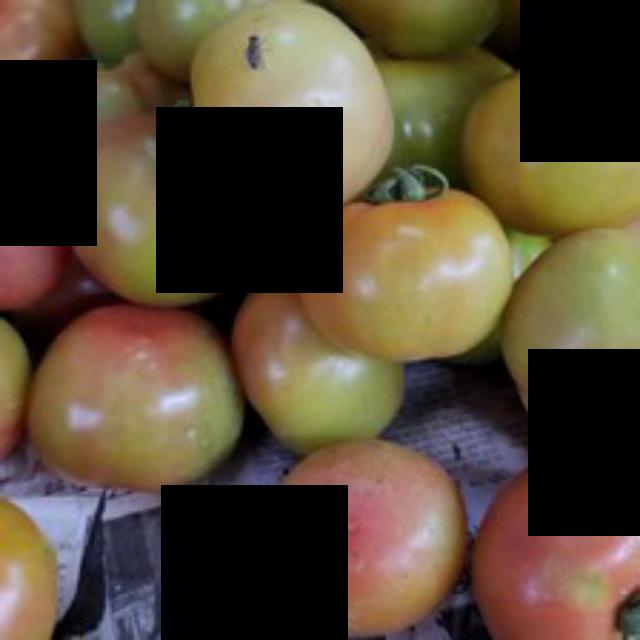tomato: (252, 440, 475, 637)
